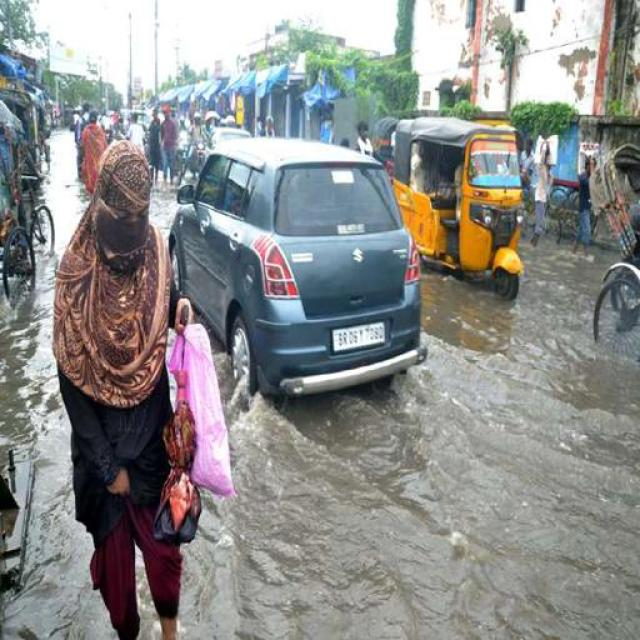puddle: (246, 421, 640, 632), (439, 303, 615, 640)
